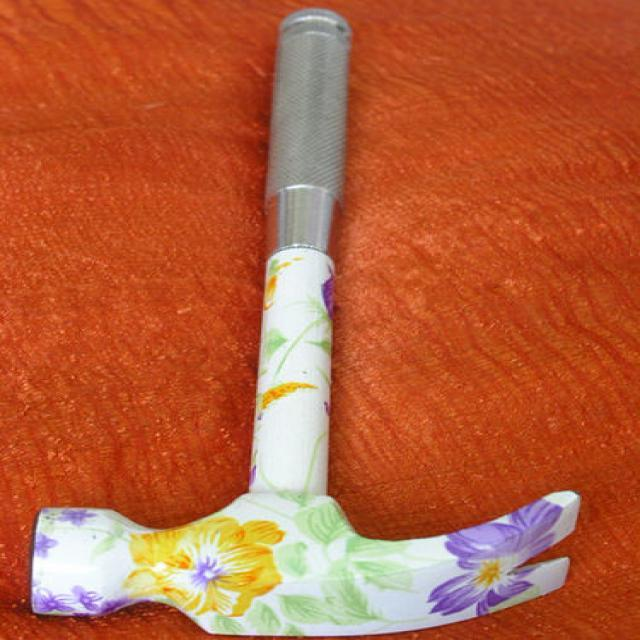hammer: (16, 7, 588, 640)
